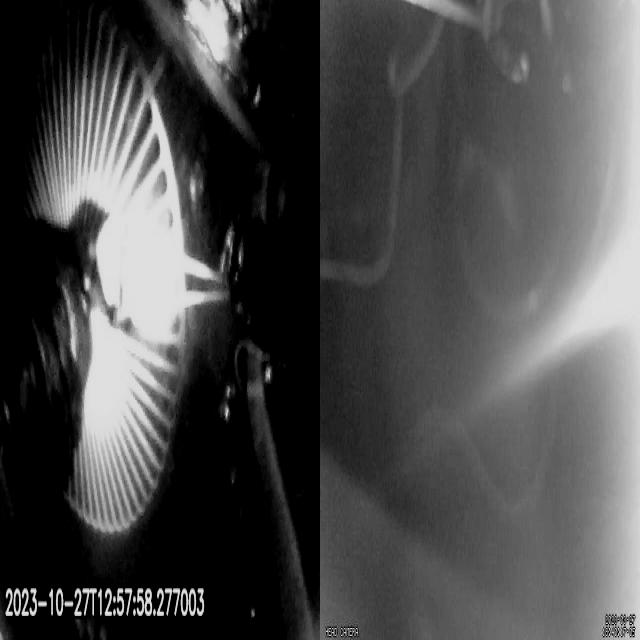head: (110, 211, 182, 334)
